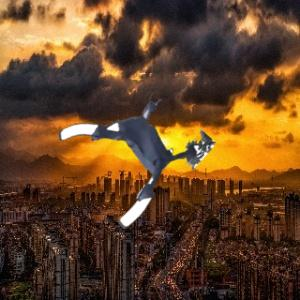drone: (65, 86, 193, 214)
